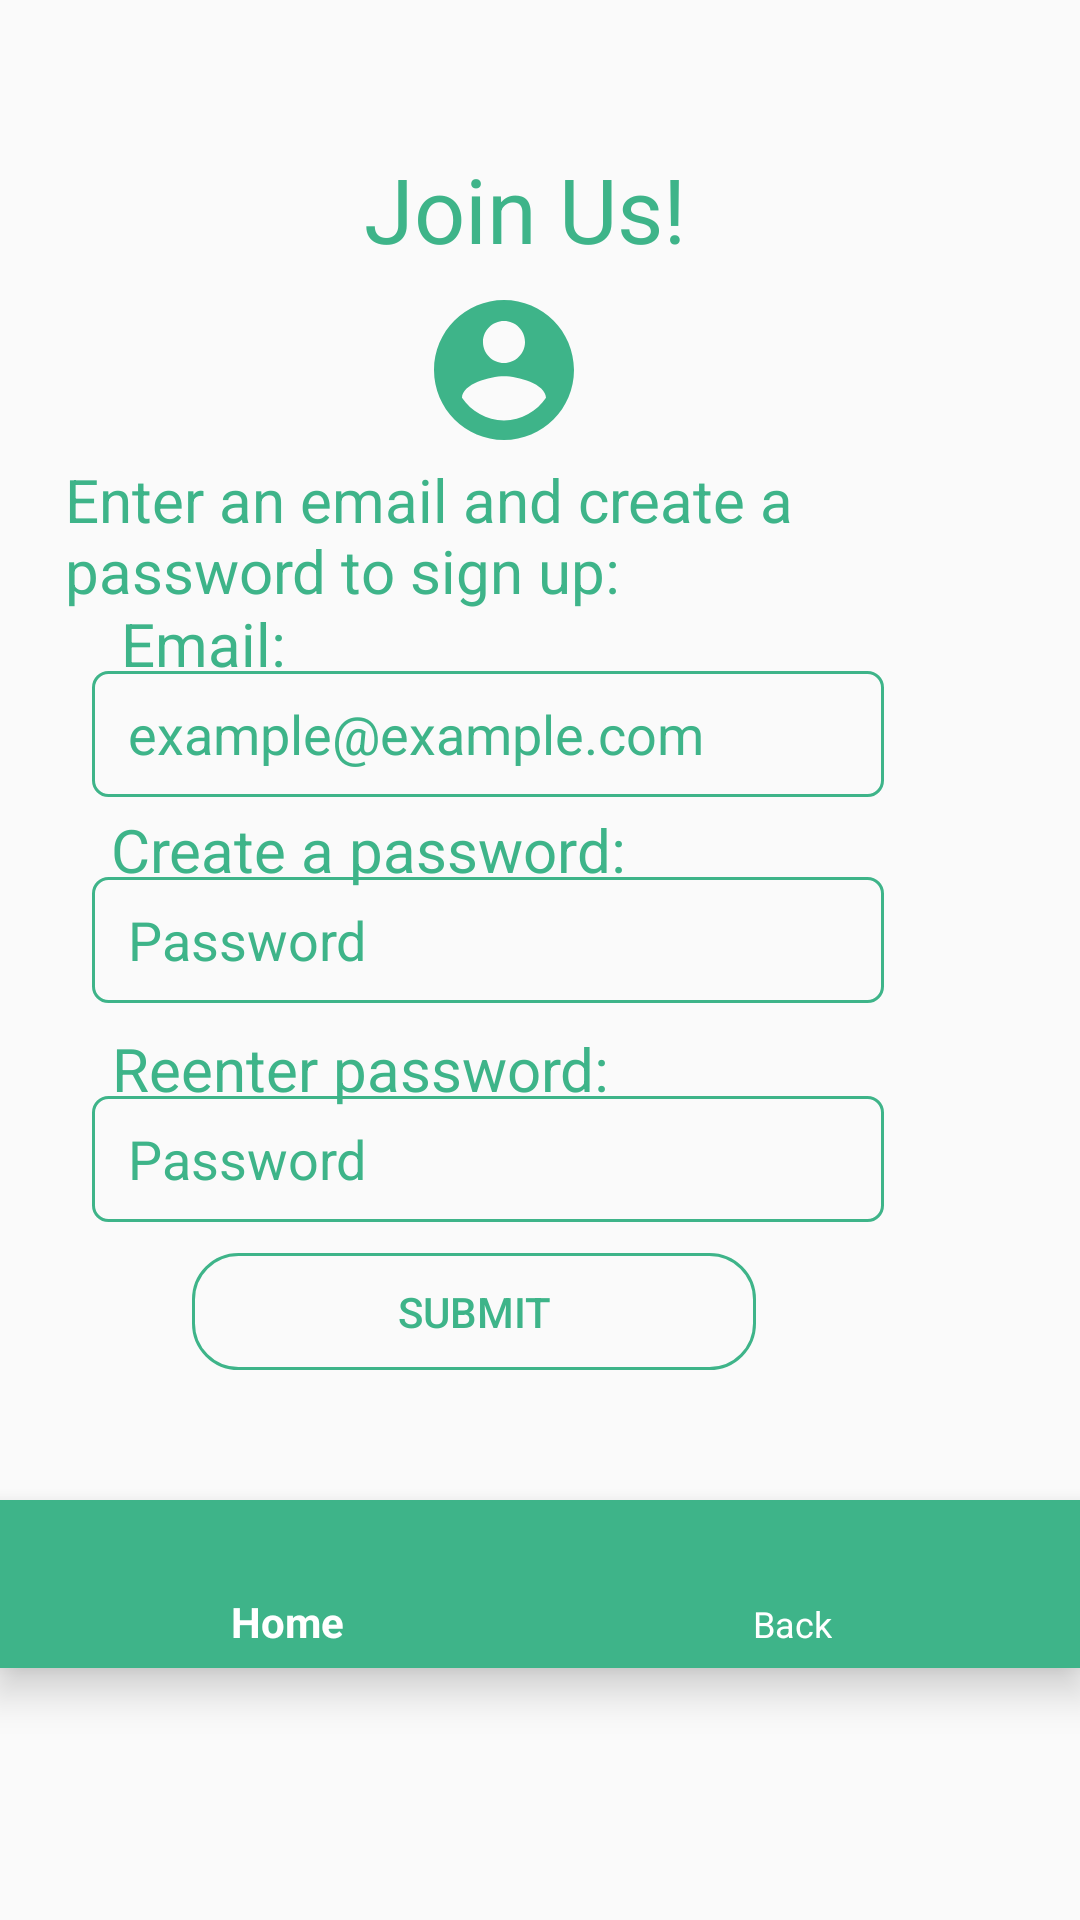

Named icons in this screenshot (1080*1920) and their bounding boxes, region(x1, y1, x2, y2):
account circle: region(422, 300, 574, 486)
